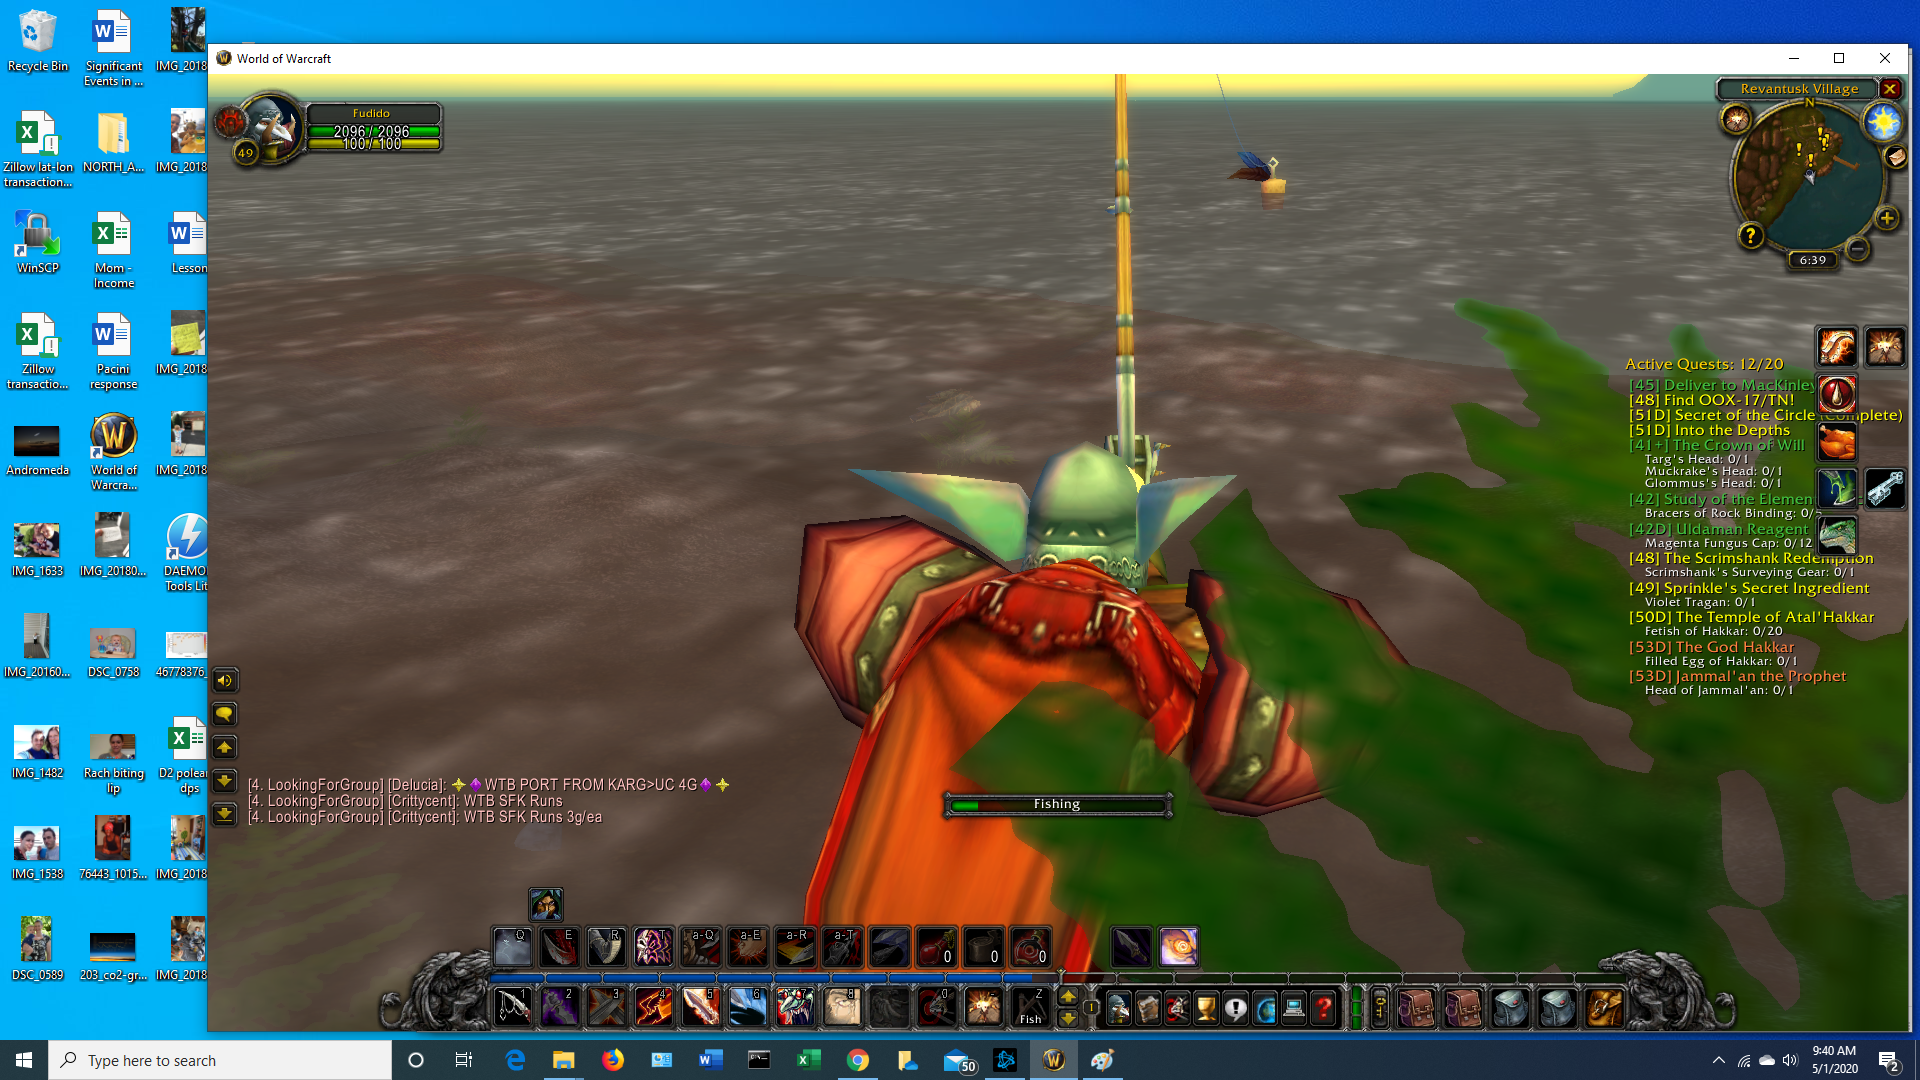bobble: (1226, 140, 1294, 206)
